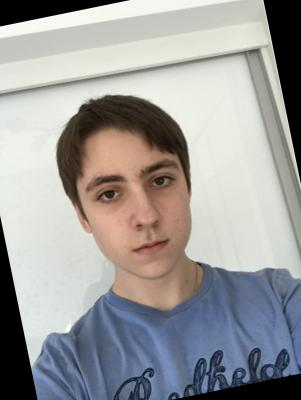without_mask: (77, 145, 205, 290)
